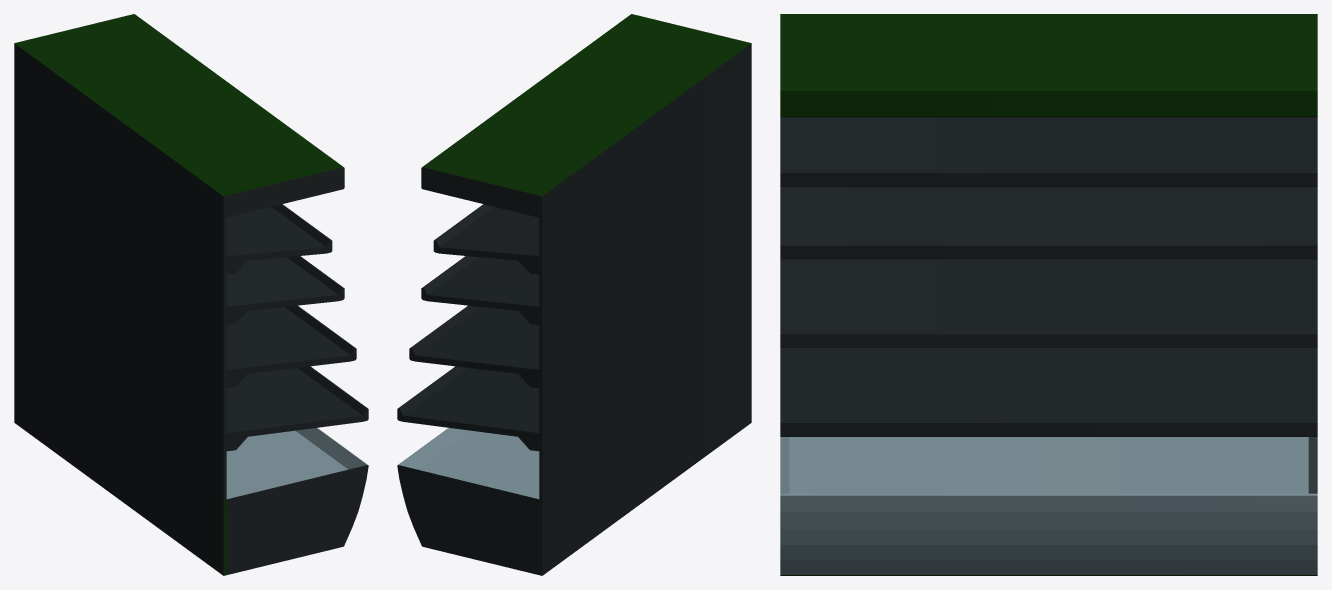
File: Produce_4row.glb
3 views of the same model, side by side, from view 1: azimuth 30°, elevation 25°; view 2: azimuth 150°, elevation 25°; view 3: azimuth 270°, elevation 25° (orthographic). The views are drawn at different scales.
Parts seen in each view (by area): view 1: Produce_Shelf; view 2: Produce_Shelf; view 3: Produce_Shelf.
Part boxes in pixels (x1,y1,x2,y2): Produce_Shelf: (14, 14, 368, 575); Produce_Shelf: (397, 14, 751, 575); Produce_Shelf: (780, 14, 1317, 575).
Bounding box in the file's own units: 1.2 × 3 × 3.
Materials: 1 (1 with a texture image).
